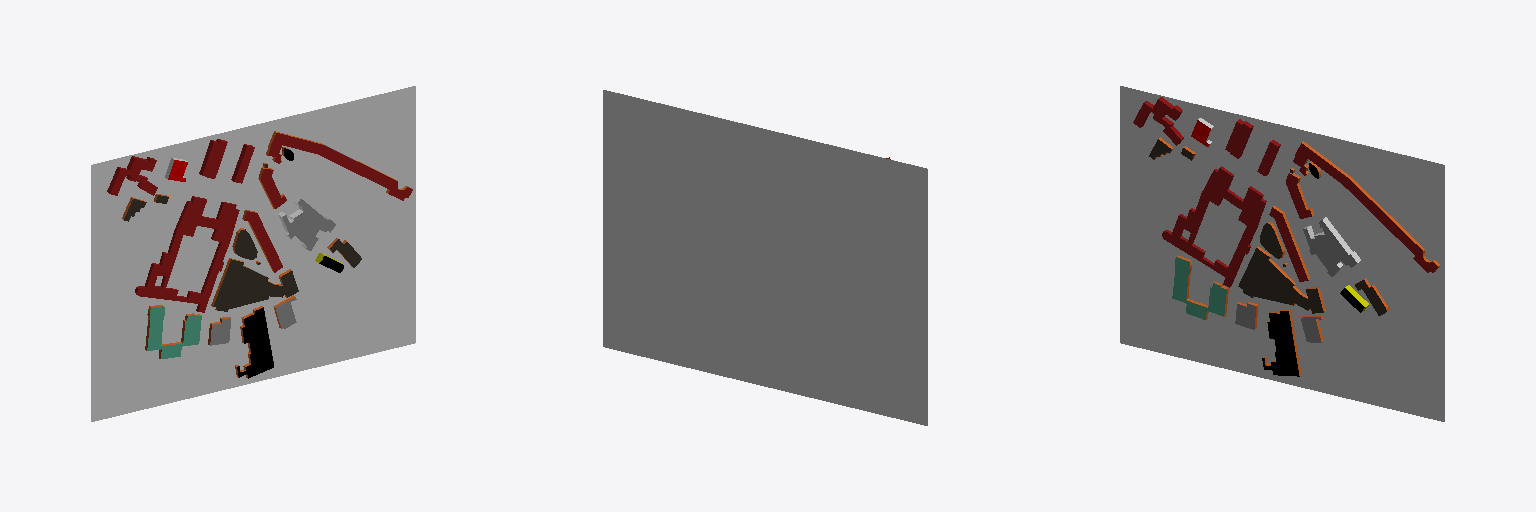
Rendered from kth_campus_insideout.obj.
3 views of the same model, side by side, from view 1: azimuth 30°, elevation 25°; view 2: azimuth 150°, elevation 25°; view 3: azimuth 330°, elevation 25° (orthographic).
Bounding box in the file's own units: 0.5386 × 0.4079 × 0.015.